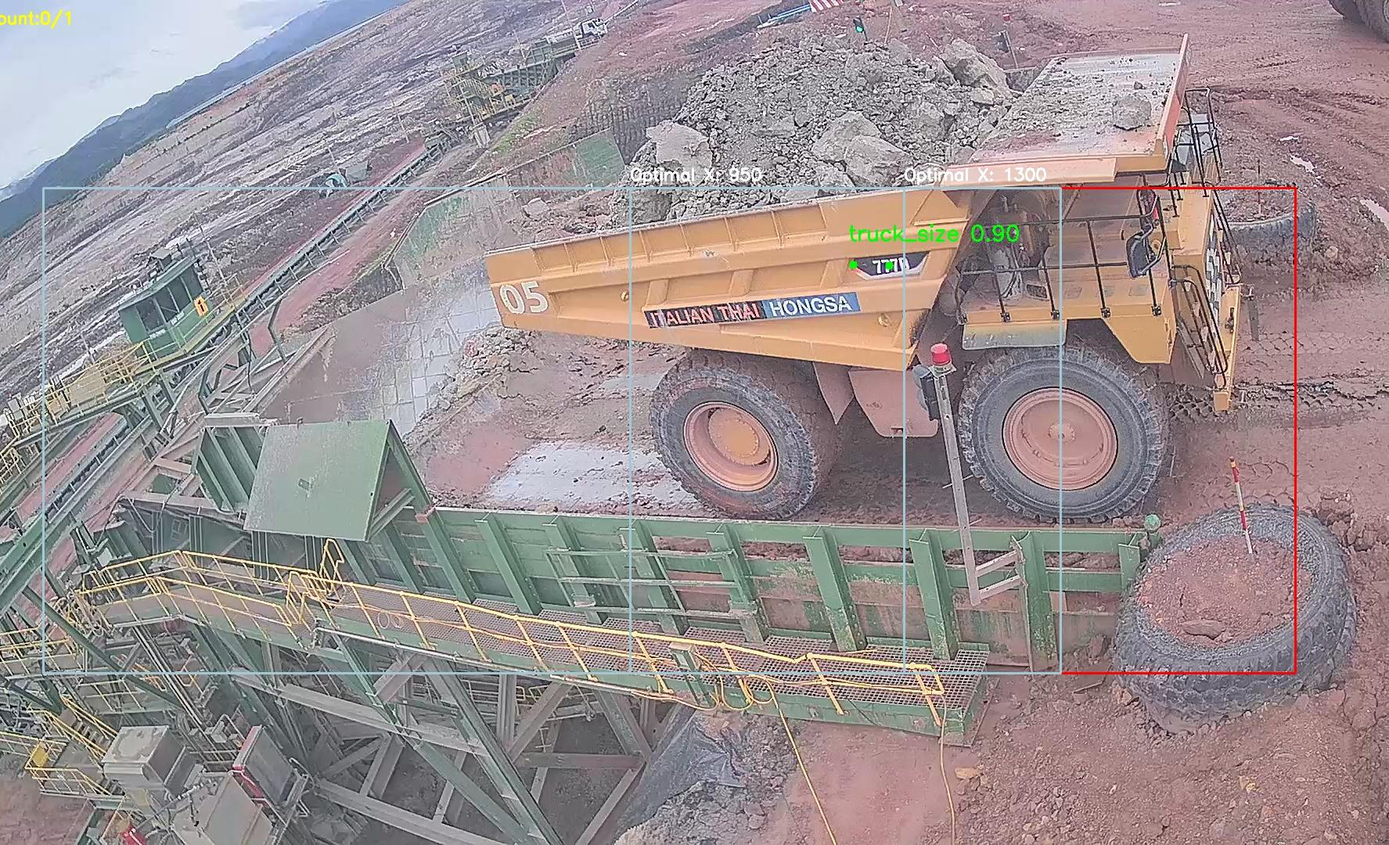company: (635, 291, 876, 331)
full_load: (646, 29, 975, 203)
mining_truck: (470, 16, 1269, 525)
tail_number: (491, 270, 554, 325)
truck_size: (845, 243, 930, 281)
